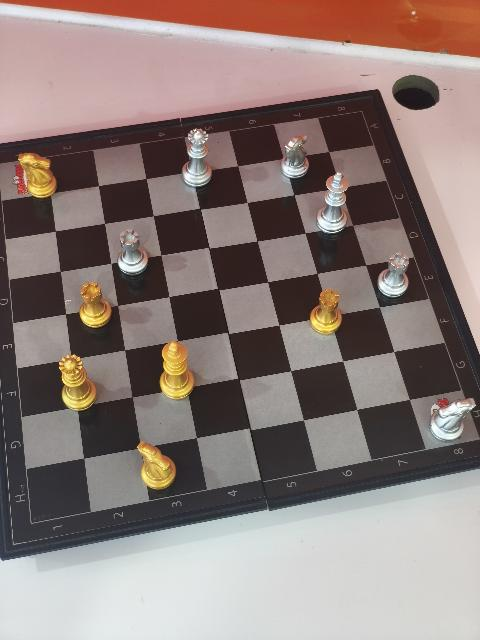black_king: (160, 342, 195, 401)
black_knight: (136, 442, 177, 493), (18, 152, 58, 201)
black_queen: (58, 355, 98, 413)
black_rook: (309, 289, 344, 336), (78, 282, 112, 330)
white_king: (317, 172, 348, 236)
white_knight: (429, 399, 477, 446), (280, 137, 310, 181)
white_queen: (181, 128, 213, 190)
white_rook: (377, 253, 412, 304), (116, 230, 149, 278)
